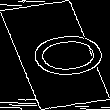O_E: (6, 28, 104, 82)
